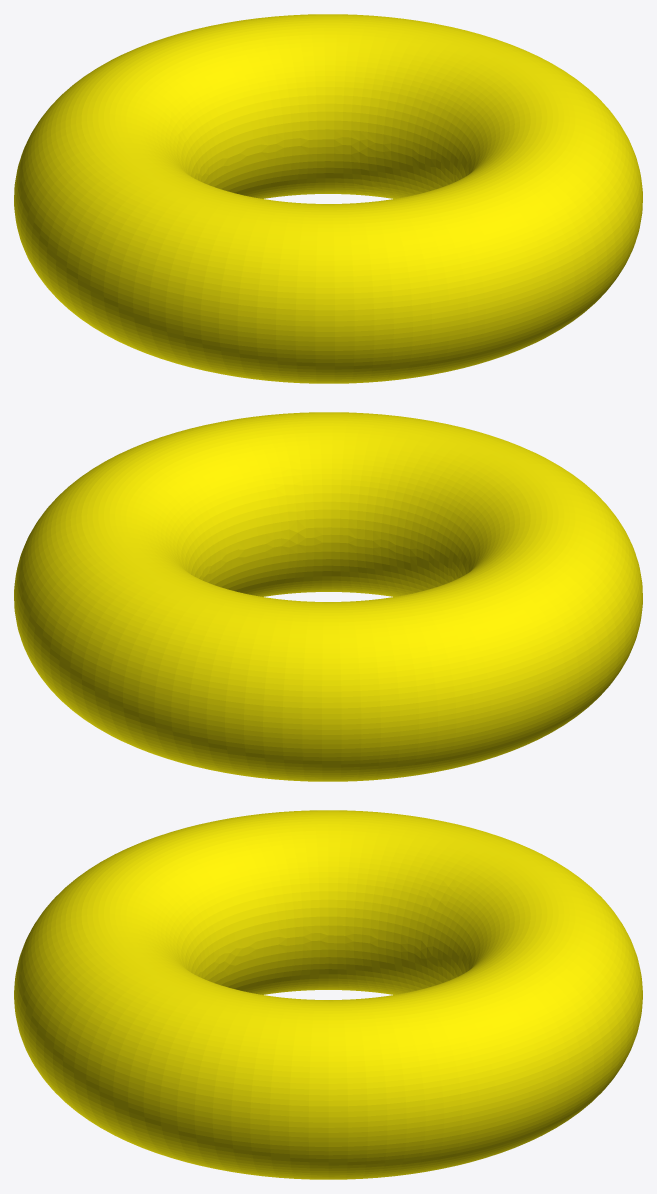
File: torus_open.obj
3 views of the same model, one above another, from view 1: azimuth 30°, elevation 25°; view 2: azimuth 150°, elevation 25°; view 3: azimuth 270°, elevation 25° (orthographic).
Parts seen in each view (by area): view 1: Object.1; view 2: Object.1; view 3: Object.1.
Part boxes in pixels (<box>): Object.1: <box>14,14,642,383</box>; Object.1: <box>14,412,642,781</box>; Object.1: <box>14,810,642,1179</box>.
Size of the model in its own units: 70 by 20 by 70.
